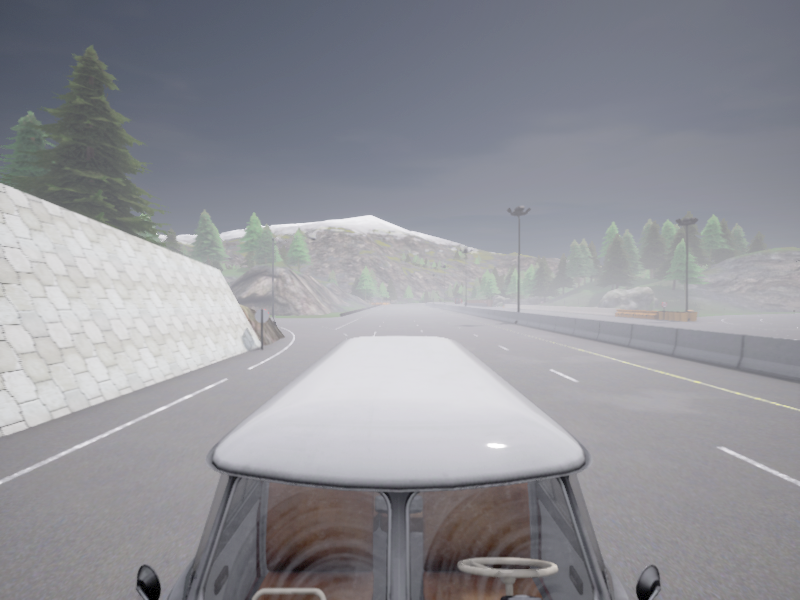vehicle: (136, 336, 660, 599), (455, 298, 462, 303)
